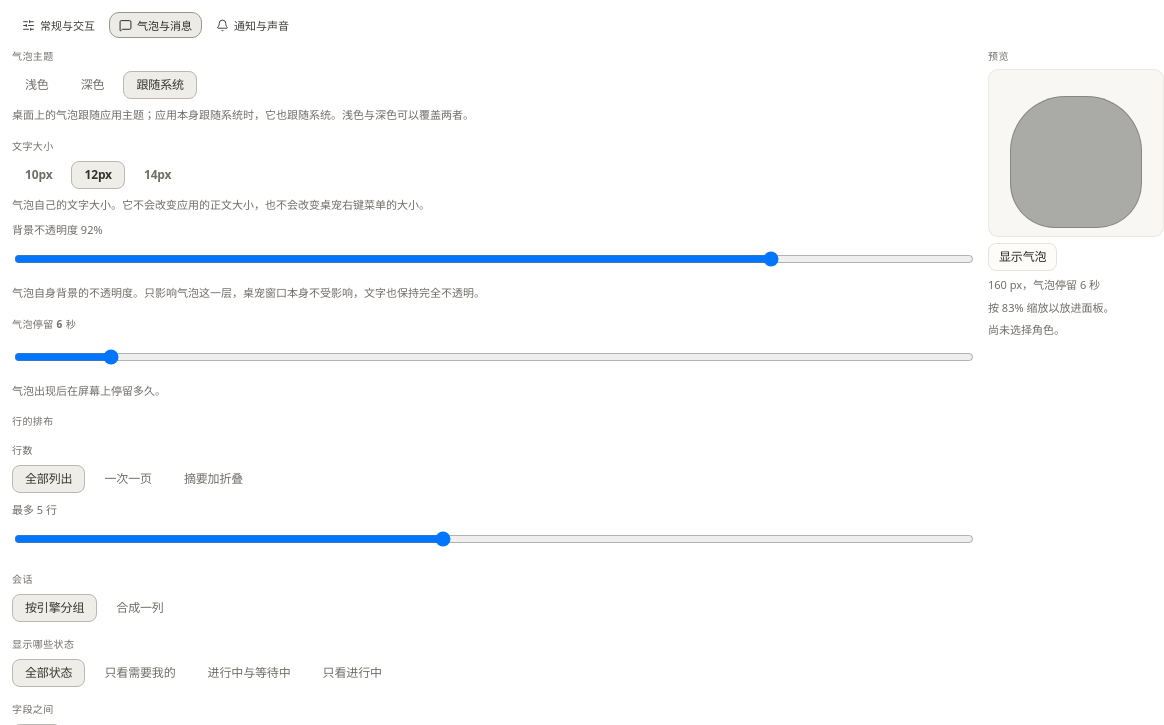
Test: the stage follows the draft › draws the desktop’s own bubble, not a second one built out of its parts
What coordinates should you click on to do the following:
click the button "显示气泡"
I would click on:
 (1023, 257)
Its box is [988,243,1057,271].
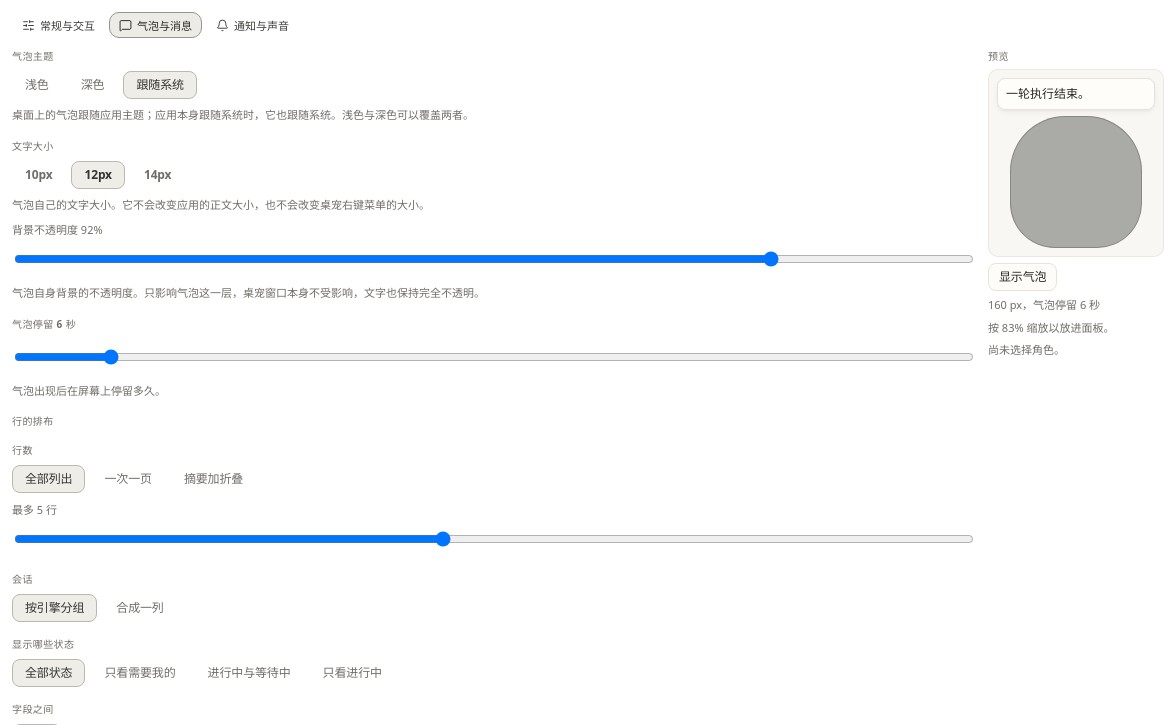
Expected: the element showing "一轮执行结束。" is shown, [997,78,1155,110]
Expected: the text "一轮执行结束。" is shown, [1006,85,1090,102]
